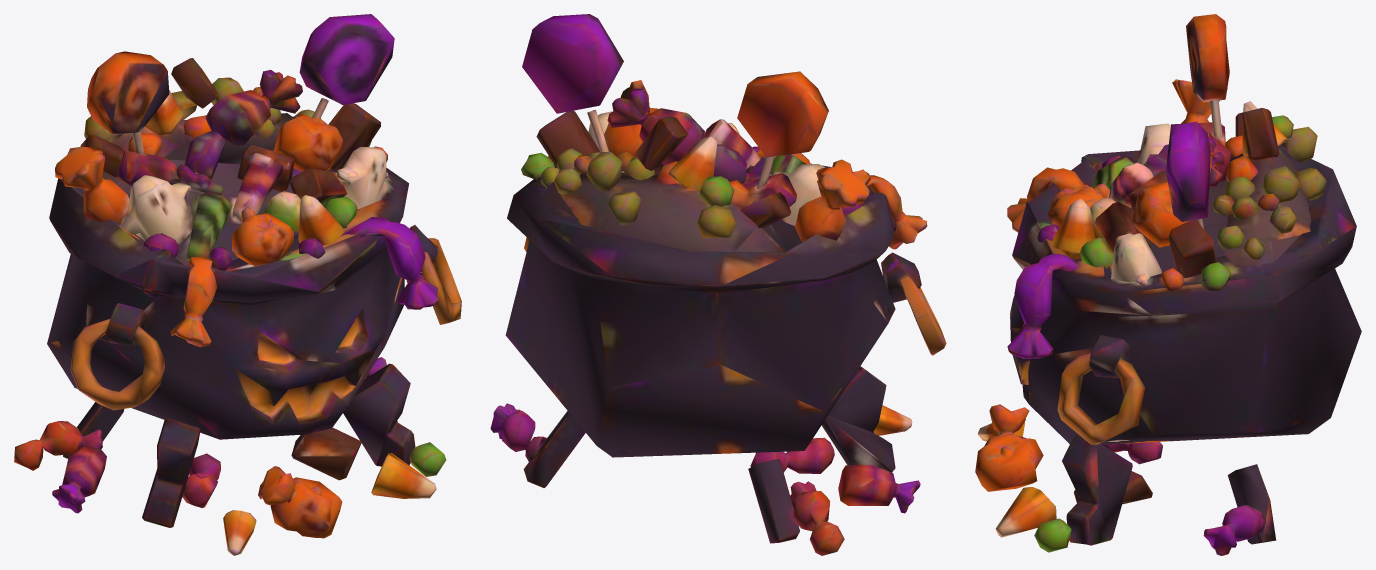
File: candy-cauldron.lod.glb
The picture shows the model from 3 angles, left to right: view 1: azimuth 30°, elevation 25°; view 2: azimuth 150°, elevation 25°; view 3: azimuth 270°, elevation 25°; orthographic projection. The views are drawn at different scales.
Parts seen in each view (by area): view 1: tripo_node_5fd54f20-4525-4136-b073-1974e43d0d98; view 2: tripo_node_5fd54f20-4525-4136-b073-1974e43d0d98; view 3: tripo_node_5fd54f20-4525-4136-b073-1974e43d0d98.
Boxes of the visible parts, bbox=[...] form: tripo_node_5fd54f20-4525-4136-b073-1974e43d0d98: bbox=[14, 14, 461, 555]; tripo_node_5fd54f20-4525-4136-b073-1974e43d0d98: bbox=[490, 14, 946, 555]; tripo_node_5fd54f20-4525-4136-b073-1974e43d0d98: bbox=[975, 14, 1361, 555].
Size of the model in its own units: 0.9444 by 0.9868 by 0.8081.
1 material, 1 textured.
